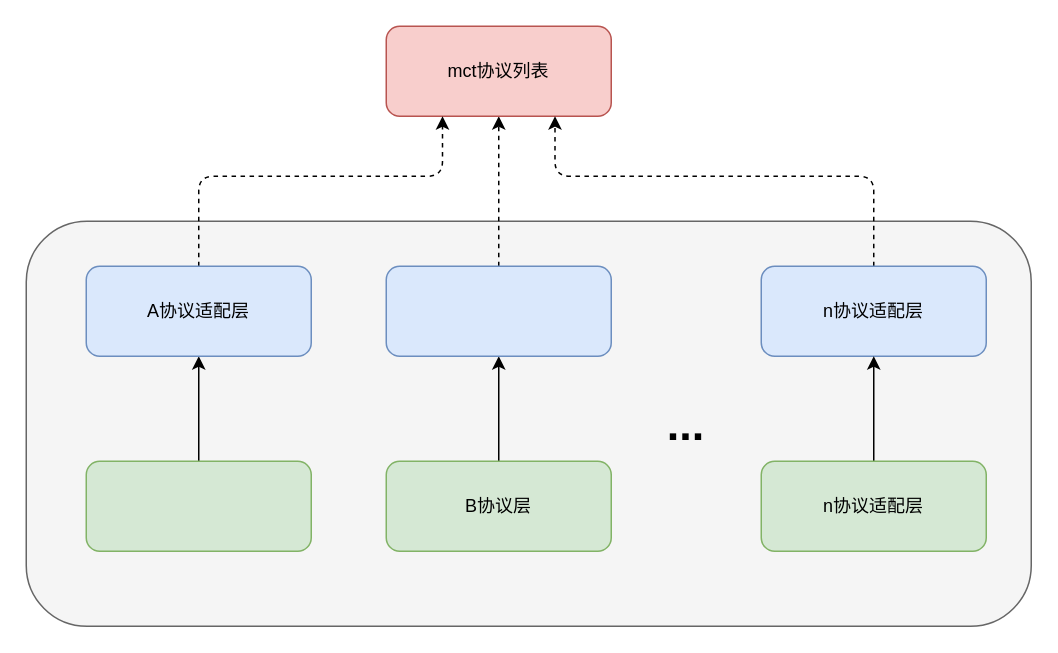
Some shapes in this 1058 by 653 pixel diagram are drawn without their labels. The centre of each missing label's shape, as x and y in pixels:
A协议层: (x=198, y=505)
B协议适配层: (x=498, y=310)
